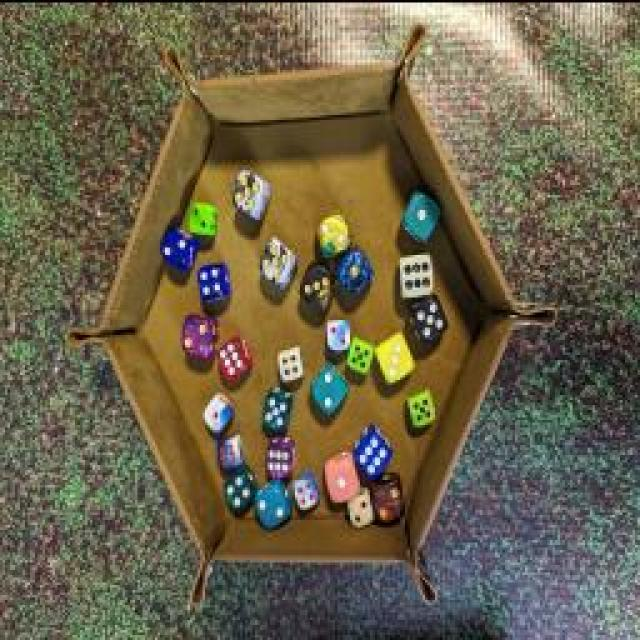dice_1: (396, 188, 446, 242), (322, 448, 362, 502), (335, 249, 375, 296), (199, 389, 239, 429)
dice_2: (172, 302, 220, 362), (250, 471, 295, 529), (160, 215, 202, 275), (308, 355, 348, 413), (369, 470, 409, 525), (314, 204, 348, 254), (343, 486, 375, 534), (184, 194, 218, 238), (322, 314, 352, 354)
dice_3: (371, 326, 421, 386), (295, 261, 335, 311)
dice_4: (220, 462, 255, 518), (271, 334, 304, 384), (194, 258, 228, 304), (290, 464, 320, 514)
dice_5: (228, 162, 274, 218), (251, 232, 294, 288), (410, 292, 448, 348), (256, 384, 296, 436), (402, 380, 438, 435), (344, 334, 374, 374)
dice_6: (348, 418, 394, 472), (394, 250, 441, 295), (216, 332, 249, 378), (264, 435, 298, 475), (218, 431, 248, 474)
